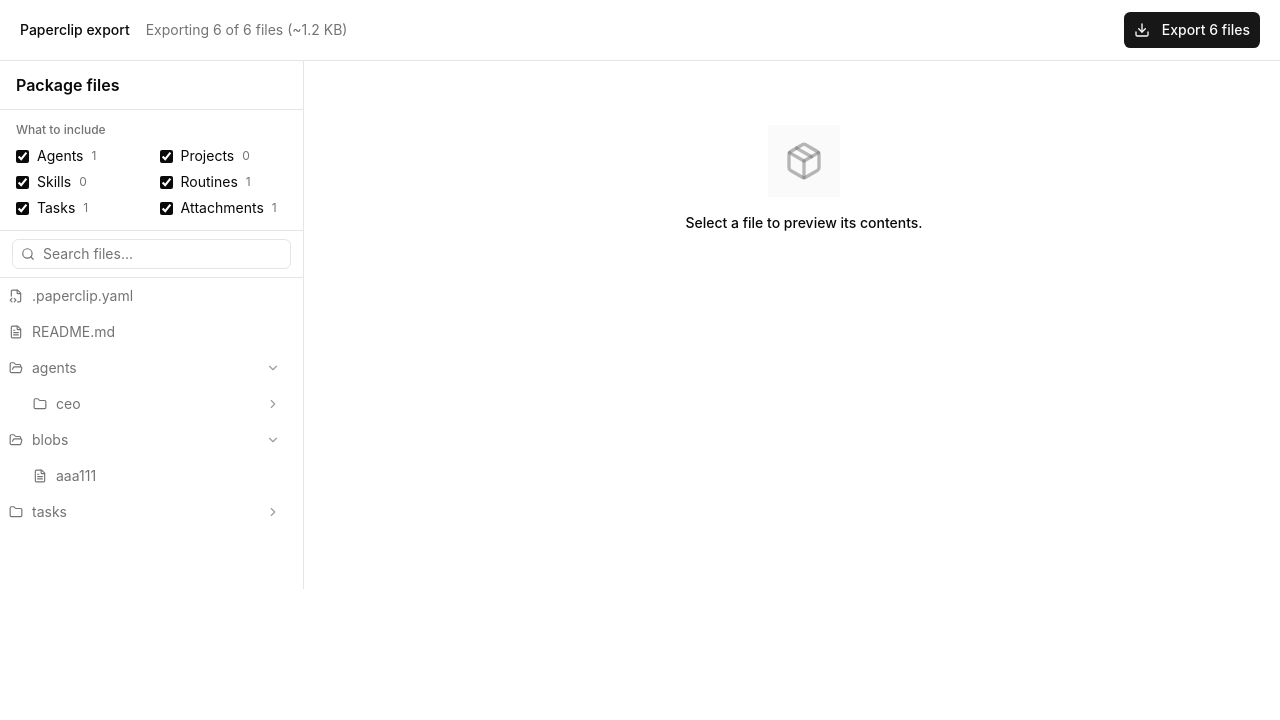
Test: CompanyExport › disables Attachments once both Tasks and Routines are off
Click the checkbox labelled "Tasks 1": x=22, y=208 [16,202,29,214]
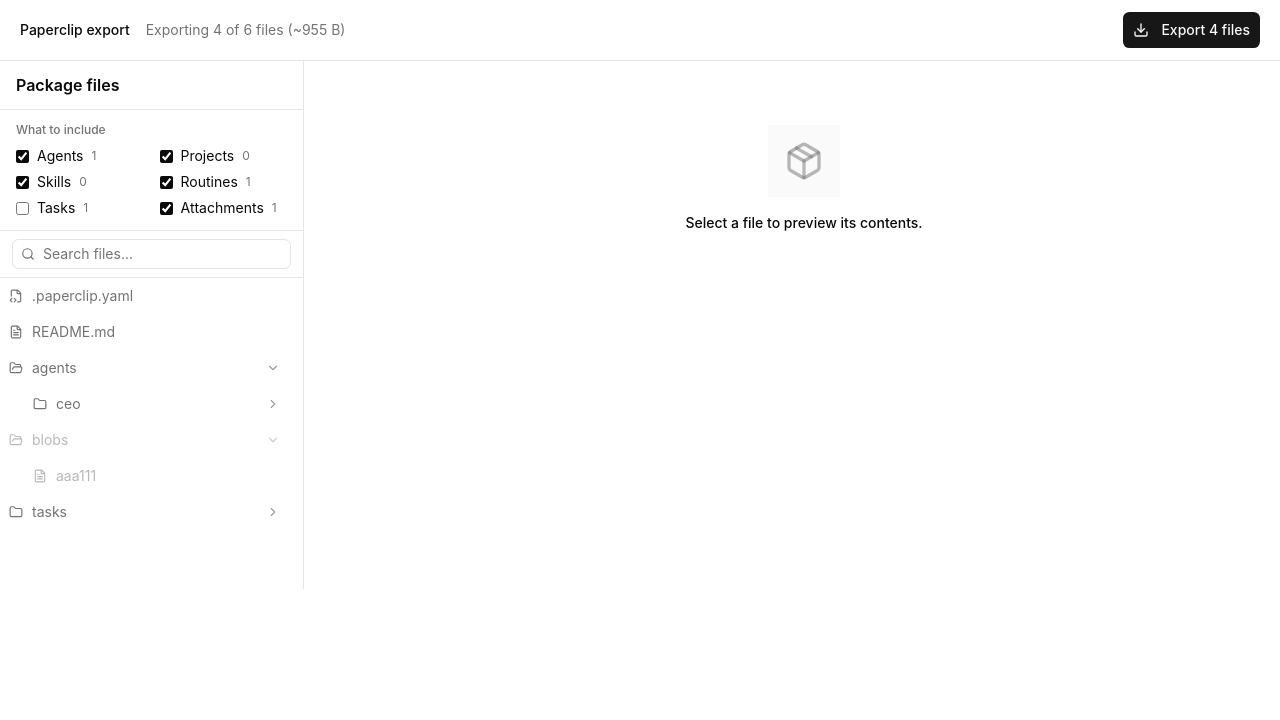
Click the checkbox labelled "Routines 1": x=166, y=182 [160,176,172,188]
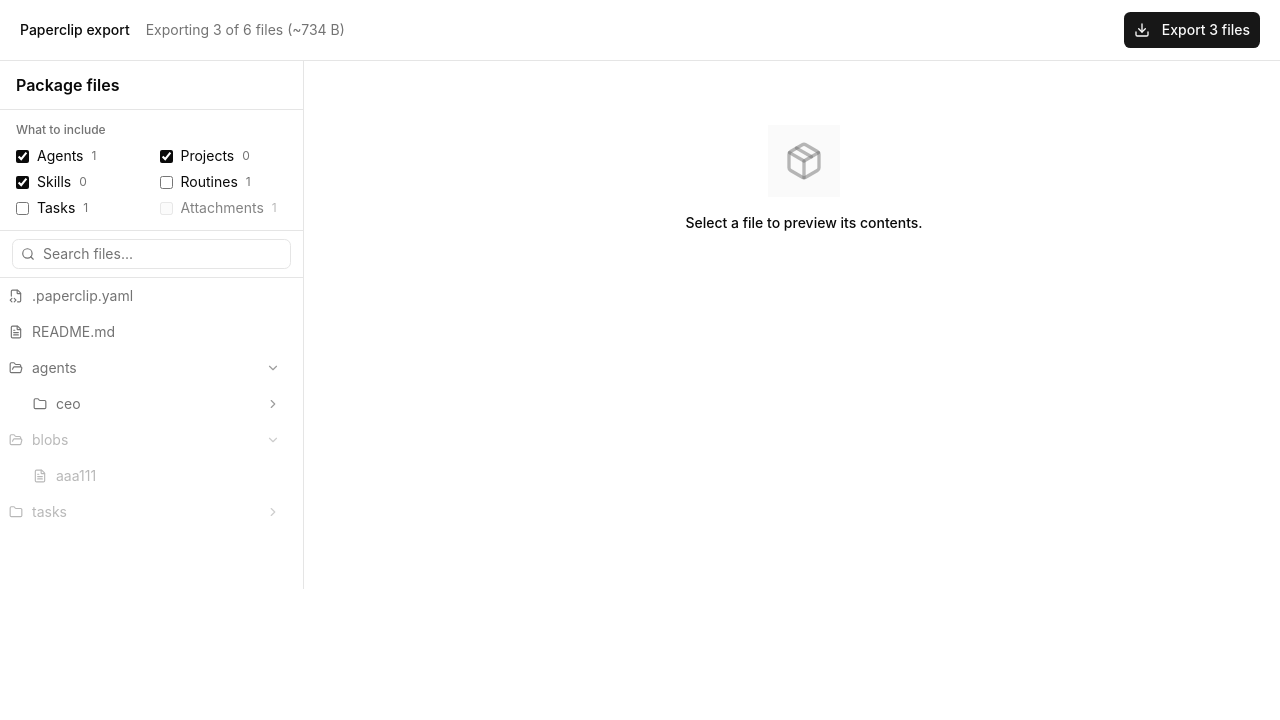
Expected: the text "Exporting 3 of 6 files" is shown, [146,20,345,40]
